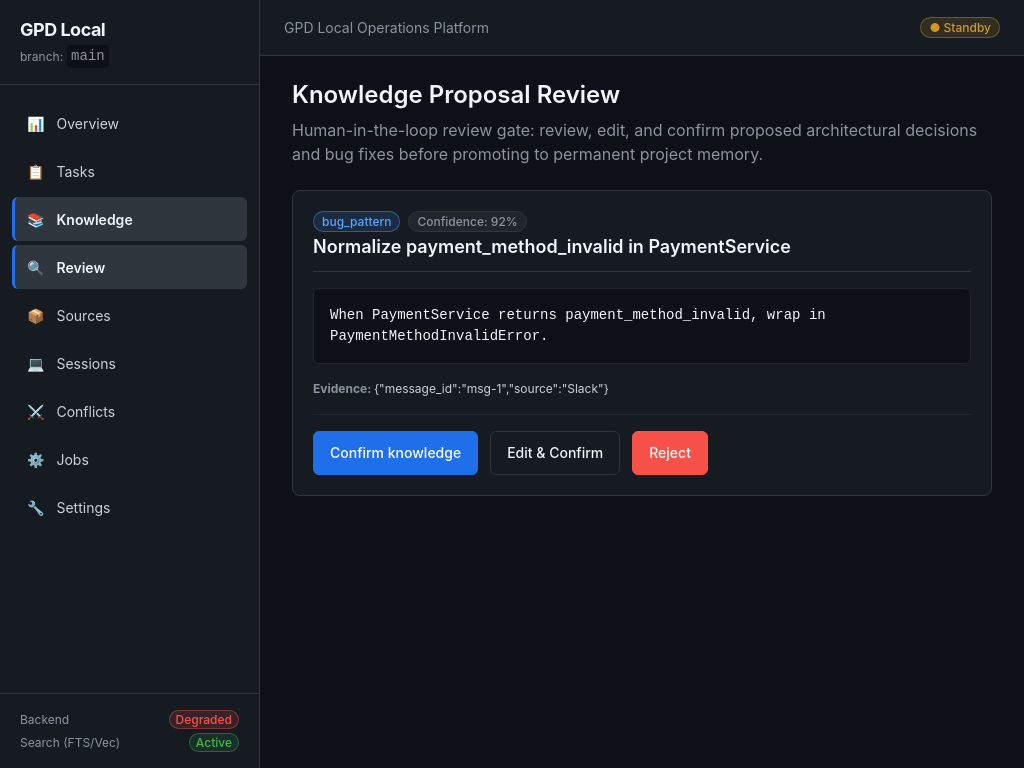
Scenario: KnowledgeReviewPage › confirms a proposal on button click
Click the button "Confirm knowledge". click: {"x": 396, "y": 452}
box: [313,430,478,474]
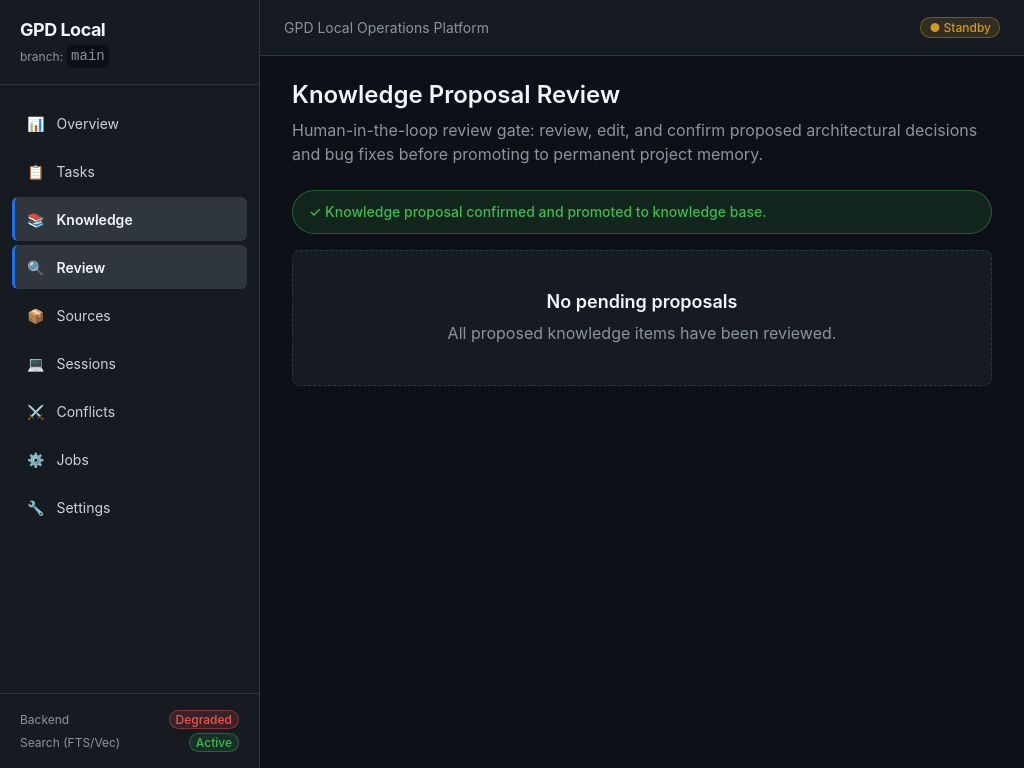
Expected: the text "✓ Knowledge proposal confirmed and promoted to knowledge base." is shown, [292,190,992,234]
